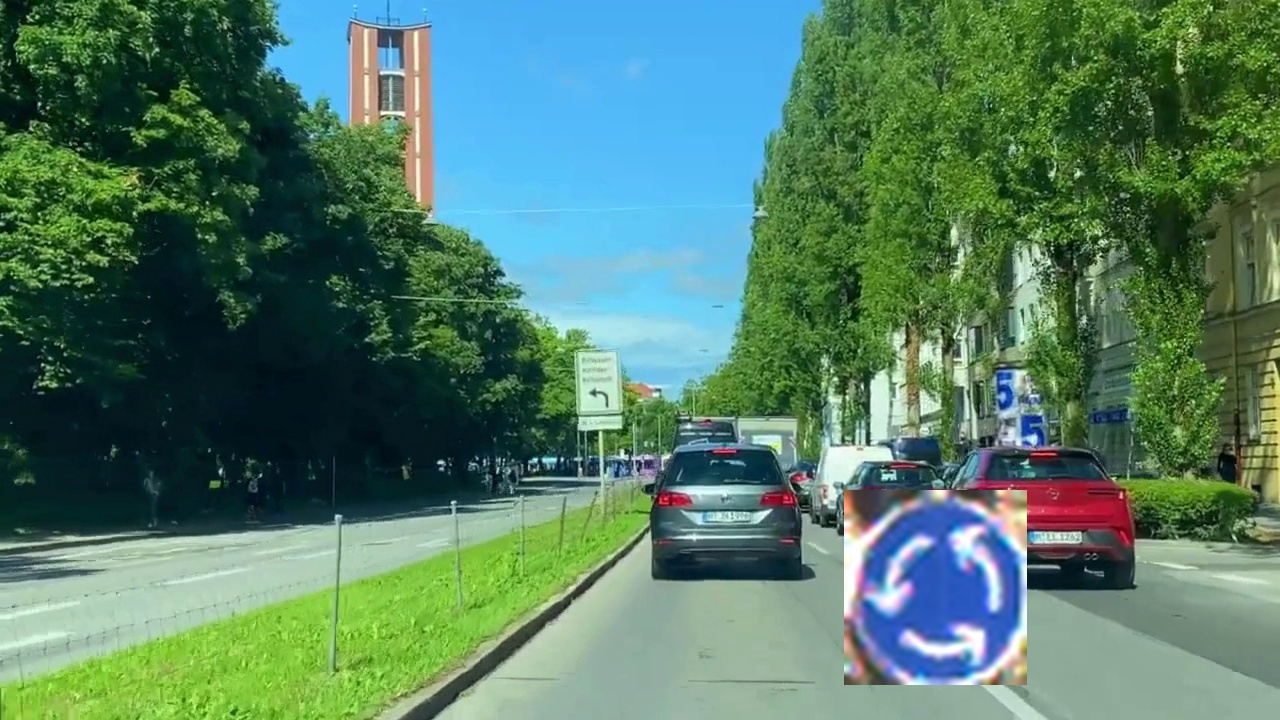Roundabout: (844, 490, 1027, 685)
